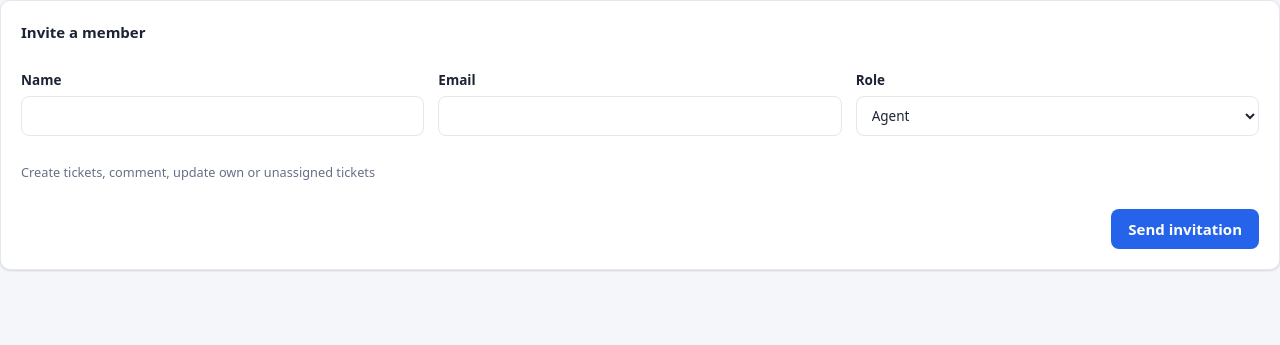
InviteMemberForm › shows errors such as duplicate emails
Step 1. Type "Bob" into the field labelled "Name" → (223, 116), box 21,96 -> 424,136
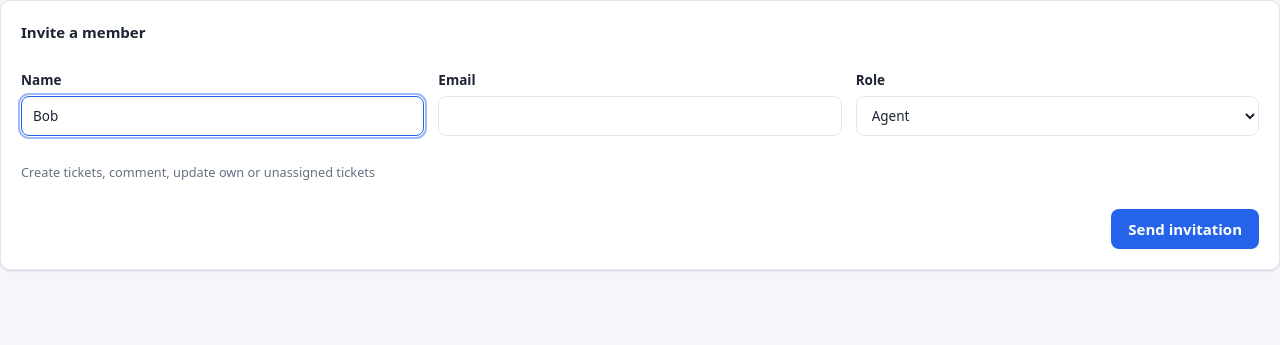
Step 2. Type "bob@example.com" into the field labelled "Email" → (640, 116), box 438,96 -> 842,136
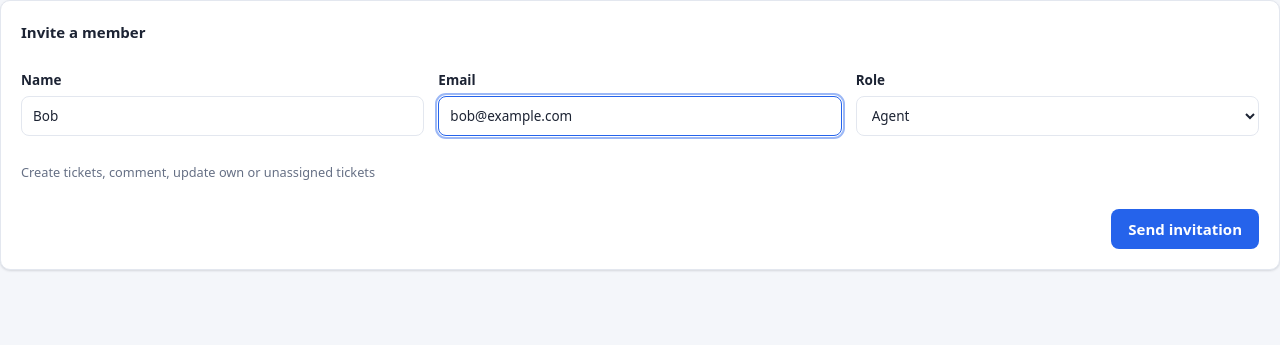
Step 3. Select "Viewer" in the dropdown labelled "Role" → (1057, 116), box 856,96 -> 1259,136
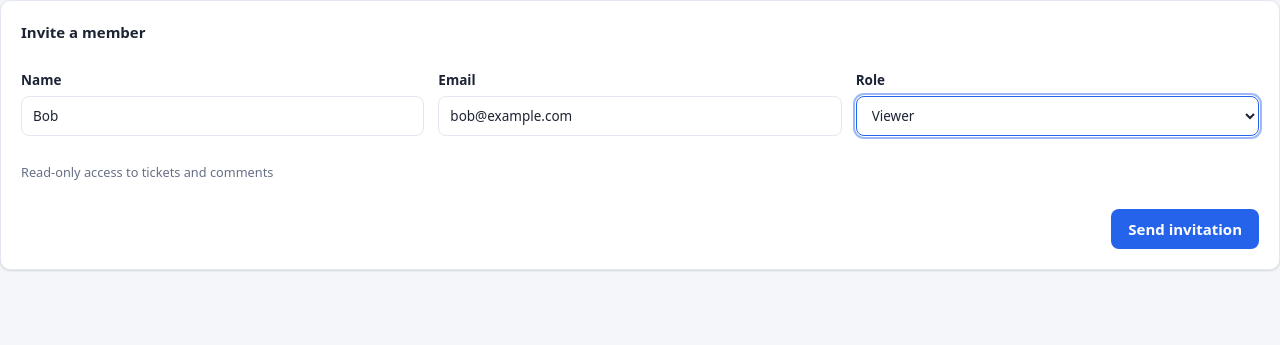
Step 4. Click the button "Send invitation" → (1185, 229), box 1111,209 -> 1259,249
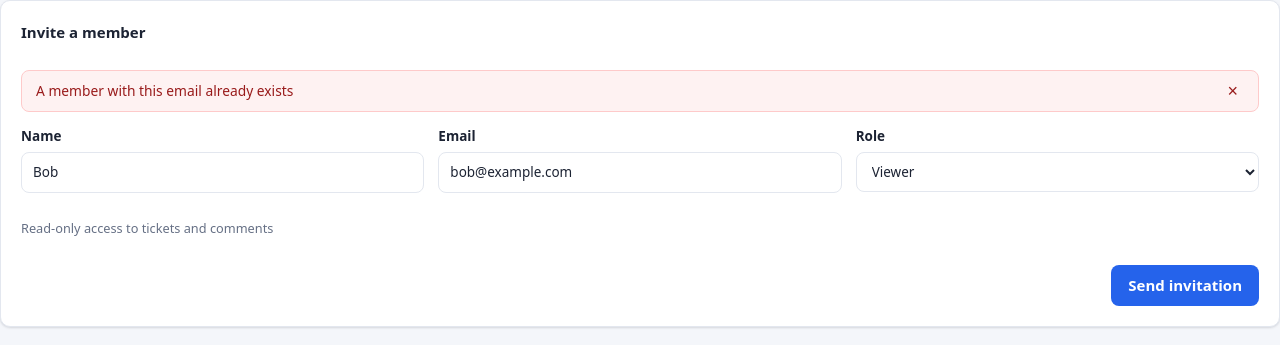
Now the message shows "already exists", box 36,80 -> 293,100
Step 5. Click the button named "Dismiss" → (1233, 91), box 1222,80 -> 1244,101
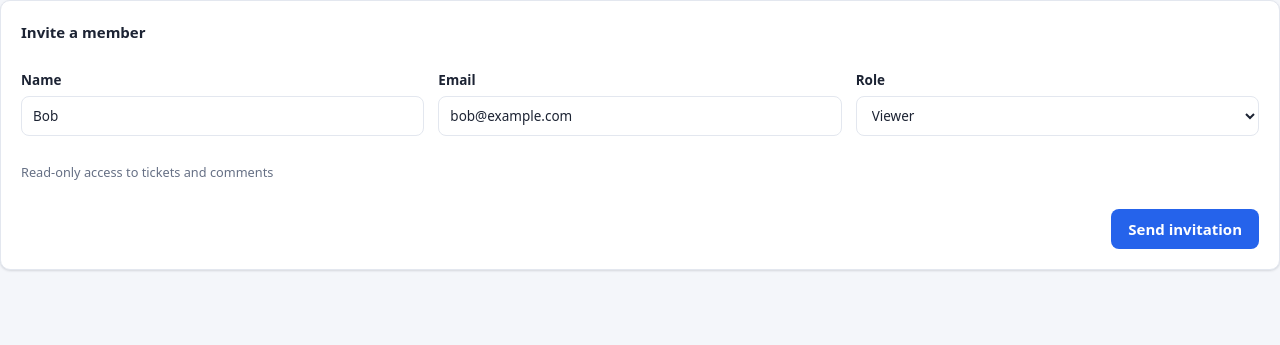
Now the message "A member with this email already exists ×" is gone
